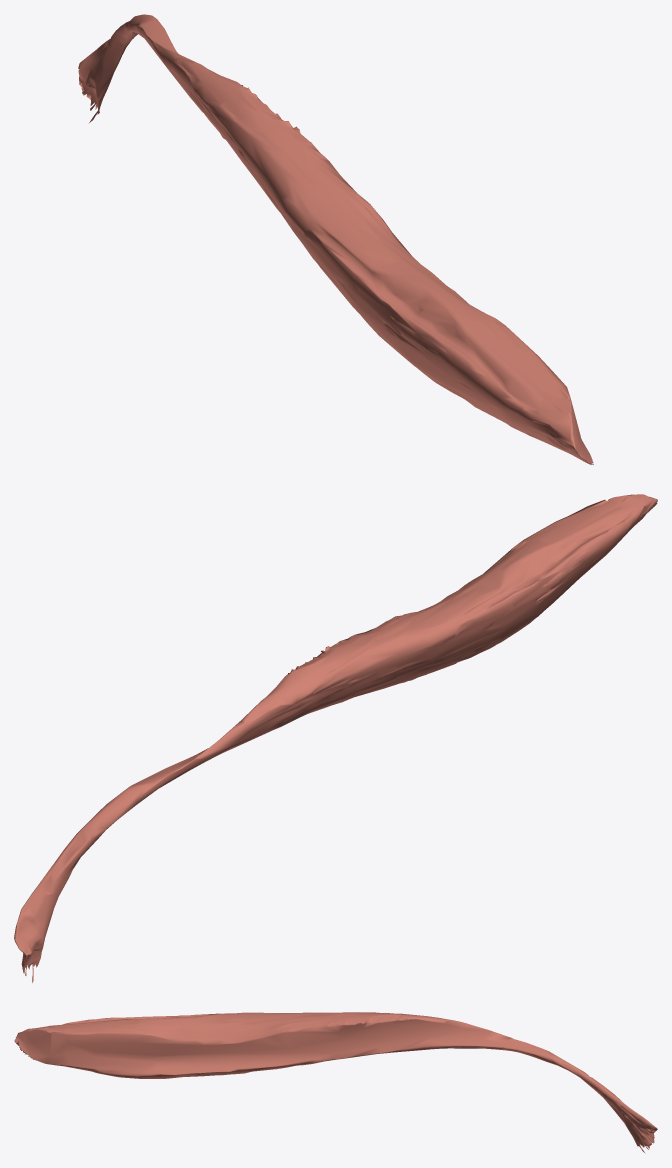
3 renders of one model, top to bottom at view 1: azimuth 30°, elevation 25°; view 2: azimuth 150°, elevation 25°; view 3: azimuth 270°, elevation 25°, orthographic. The views are drawn at different scales.
Visible parts, largest first — view 1: 右侧胫骨前肌; view 2: 右侧胫骨前肌; view 3: 右侧胫骨前肌.
Boxes of the visible parts, bbox=[...] form: 右侧胫骨前肌: bbox=[78, 14, 593, 464]; 右侧胫骨前肌: bbox=[14, 494, 657, 982]; 右侧胫骨前肌: bbox=[14, 1012, 657, 1153].
Size of the model in its own units: 0.0896 by 0.1085 by 0.5435.
